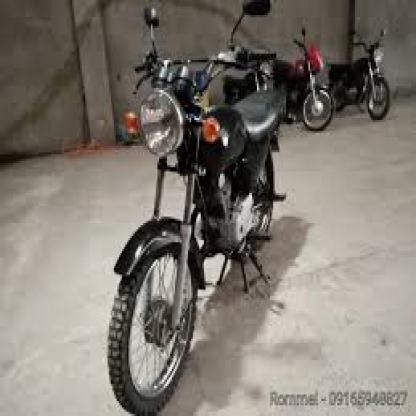Motorcycle: (100, 0, 294, 414), (281, 20, 340, 143), (335, 23, 399, 125)
